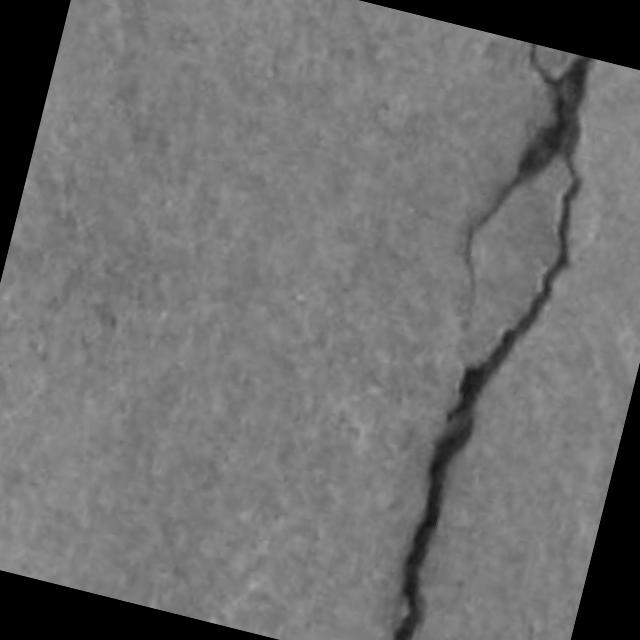crack: (394, 56, 593, 639), (465, 43, 591, 303)
